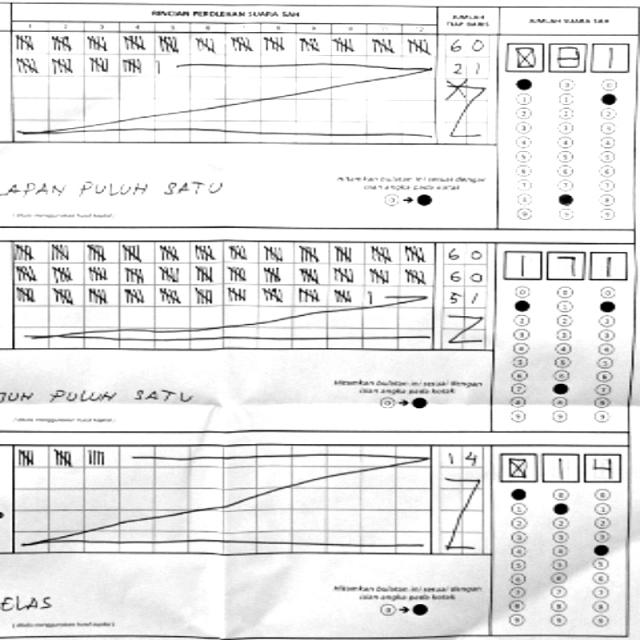Suara: (494, 445, 622, 484), (502, 37, 628, 76), (496, 246, 627, 282)
